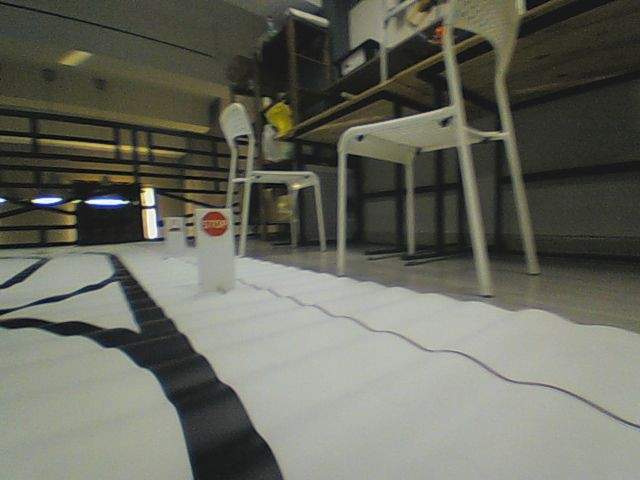Stop: (199, 209, 228, 237)
